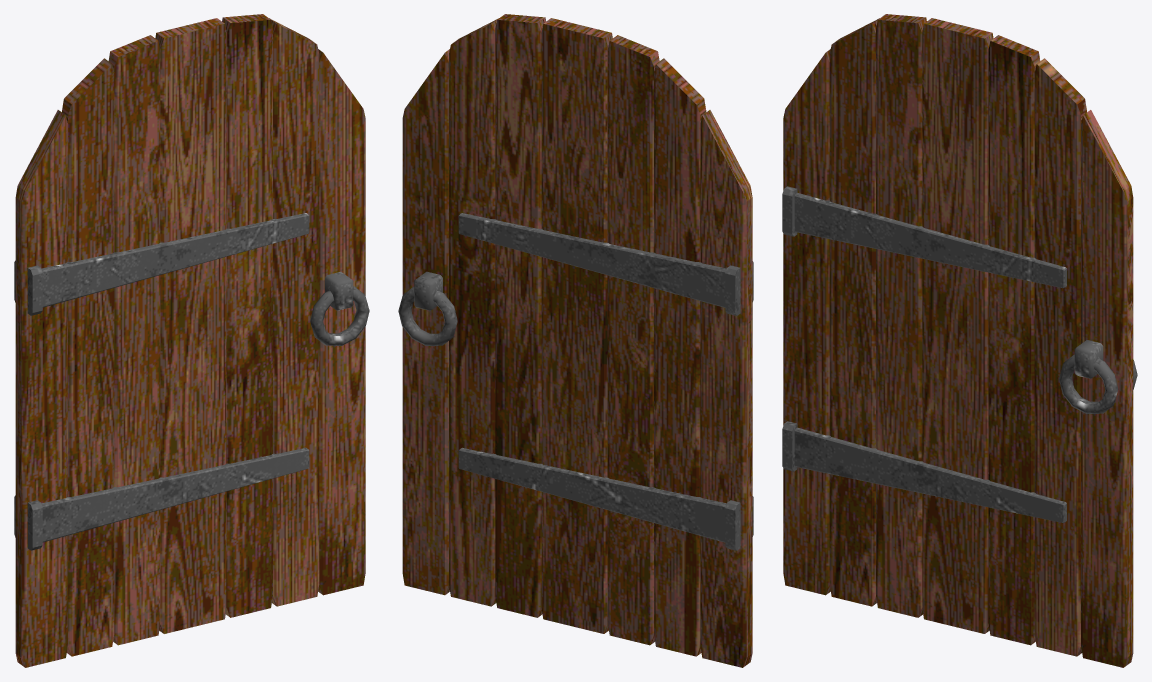
The model's file is wooden_door_1.glb.
3 renders of one model, left to right at view 1: azimuth 30°, elevation 25°; view 2: azimuth 150°, elevation 25°; view 3: azimuth 330°, elevation 25°, orthographic.
Visible parts, largest first — view 1: Door; view 2: Door; view 3: Door.
Boxes of the visible parts, x1,y1,x2,y2 form: Door: [14, 14, 369, 667]; Door: [398, 14, 753, 667]; Door: [782, 14, 1137, 667].
Bounding box in the file's own units: 1.29 × 2.13 × 0.2022.
2 materials, 2 textured.
